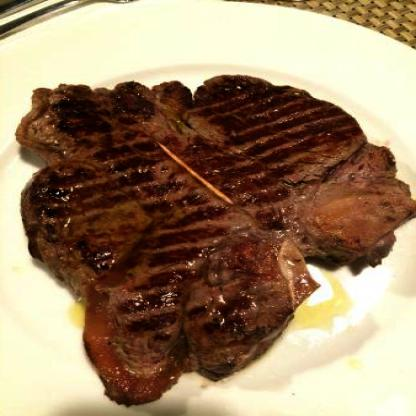Carne: (1, 61, 410, 392)
